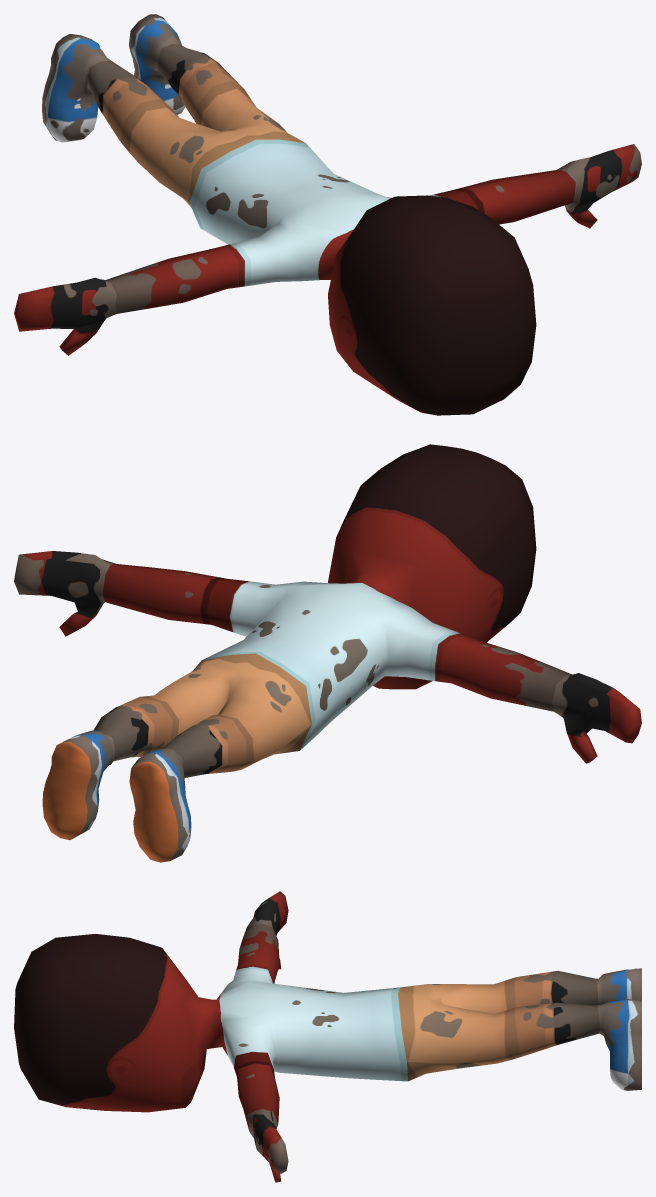
The model's file is Character.glb.
3 renders of one model, top to bottom at view 1: azimuth 30°, elevation 25°; view 2: azimuth 150°, elevation 25°; view 3: azimuth 270°, elevation 25°, orthographic. The views are drawn at different scales.
Parts seen in each view (by area): view 1: characterMedium; view 2: characterMedium; view 3: characterMedium.
Boxes of the visible parts, x1,y1,x2,y2 form: characterMedium: (14,14,641,415); characterMedium: (14,444,641,862); characterMedium: (14,891,641,1182).
Bounding box in the file's own units: 3.62 × 1.05 × 3.76.
Materials: 1 (1 with a texture image).
